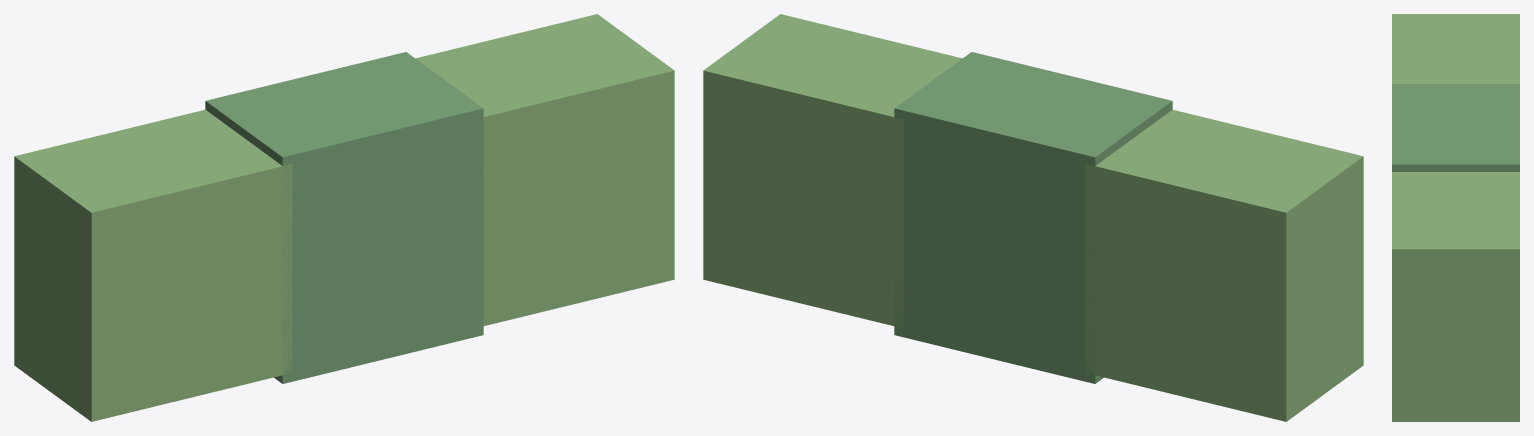
File: veg_hedge_01.glb
The picture shows the model from 3 angles, left to right: view 1: azimuth 30°, elevation 25°; view 2: azimuth 150°, elevation 25°; view 3: azimuth 270°, elevation 25°; orthographic projection. The views are drawn at different scales.
Visible parts, largest first — view 1: hedge_0, hedge_1, hedge_2; view 2: hedge_0, hedge_1, hedge_2; view 3: hedge_2, hedge_1, hedge_0.
Boxes of the visible parts, x1,y1,x2,y2 form: hedge_0: (14,109,292,421); hedge_1: (205,52,483,383); hedge_2: (415,14,674,325); hedge_0: (1085,109,1363,421); hedge_1: (894,52,1172,383); hedge_2: (703,14,962,328); hedge_2: (1392,172,1519,421); hedge_1: (1392,84,1519,171); hedge_0: (1392,14,1519,83).
Bounding box in the file's own units: 3.05 × 1.13 × 0.7.
